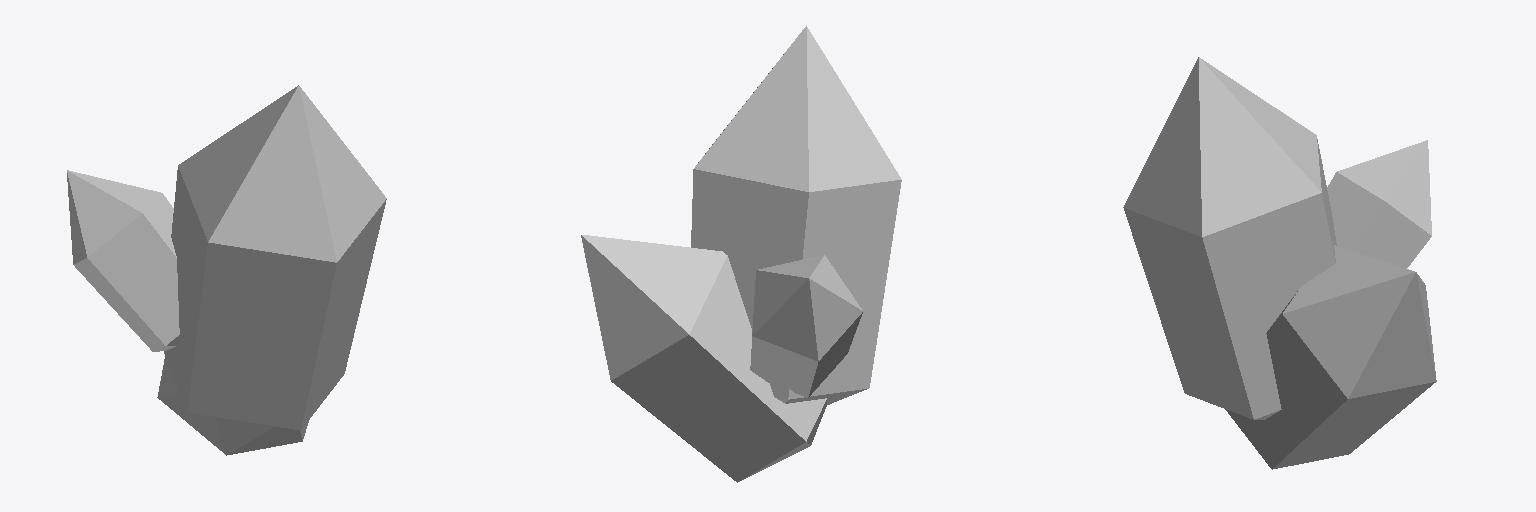
Rendered from crystal 1l.obj.
3 views of the same model, side by side, from view 1: azimuth 30°, elevation 25°; view 2: azimuth 150°, elevation 25°; view 3: azimuth 270°, elevation 25° (orthographic).
Visible parts, largest first — view 1: Cylinder.014; view 2: Cylinder.014; view 3: Cylinder.014.
Boxes of the visible parts, box(x1,y1,x2,y2) form: Cylinder.014: box(67, 85, 386, 455); Cylinder.014: box(581, 25, 901, 482); Cylinder.014: box(1123, 57, 1436, 469).
Bounding box in the file's own units: 3.92 × 5.68 × 4.03.